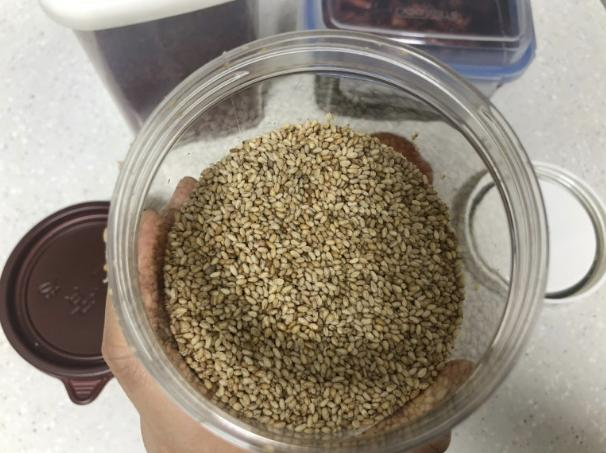Lunch Box: (107, 31, 547, 452), (40, 0, 257, 132), (302, 0, 535, 96)
cup: (0, 202, 111, 403)
